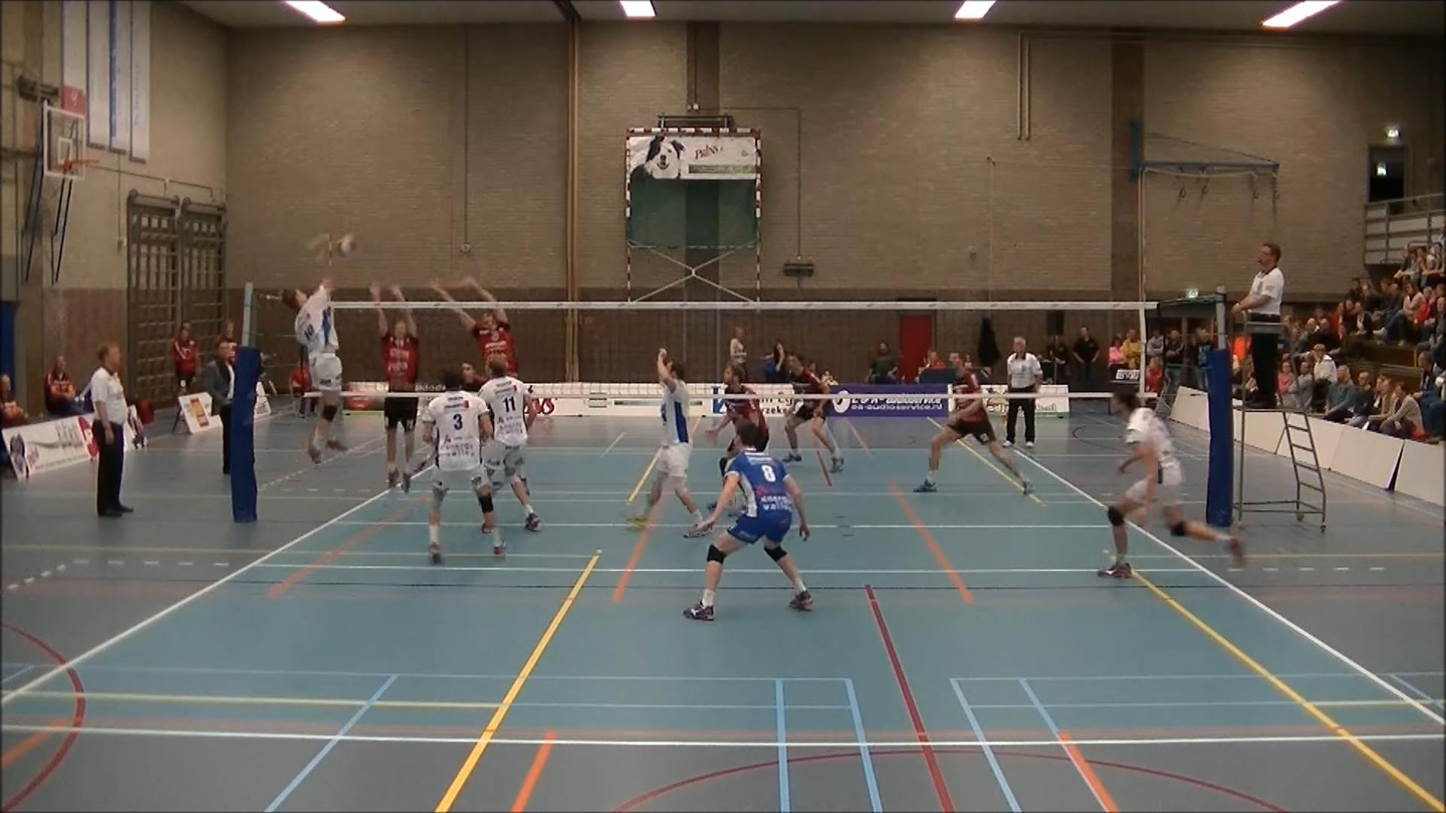attacco: (274, 258, 355, 469)
muro: (365, 273, 423, 508), (428, 263, 518, 376)
